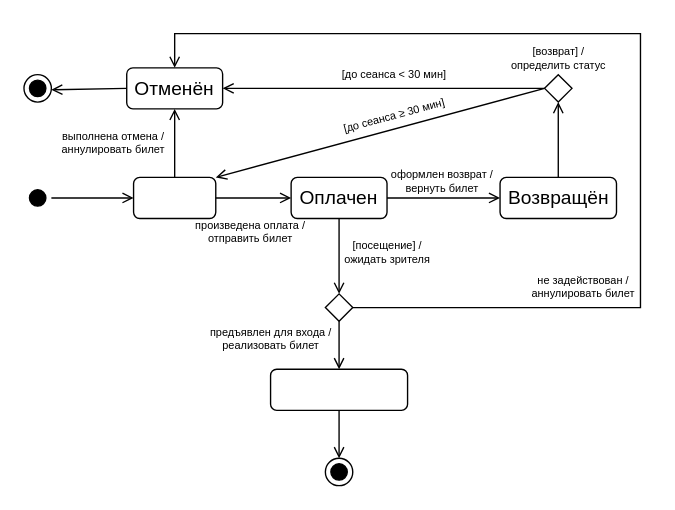
Some shapes in this 675 by 510 pixel diagram are drawn without their labels. The shapes that lost their labels are listed below. From the top down, each one's centre as x and y in pixels, then its label:
(x=174, y=197): Создан
(x=338, y=389): Использован
